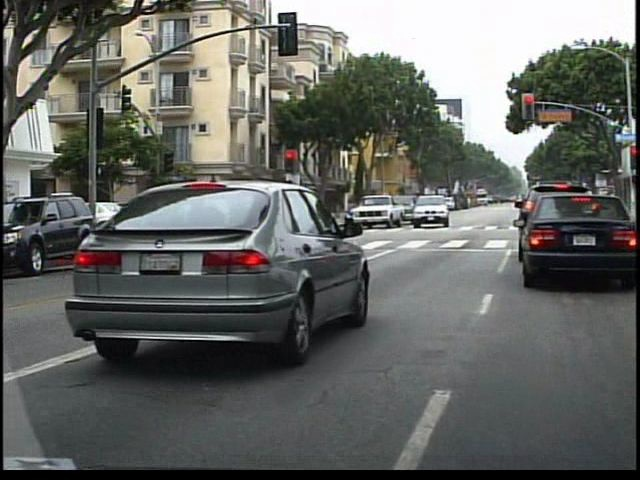person: (177, 191, 195, 237), (197, 193, 216, 234)
